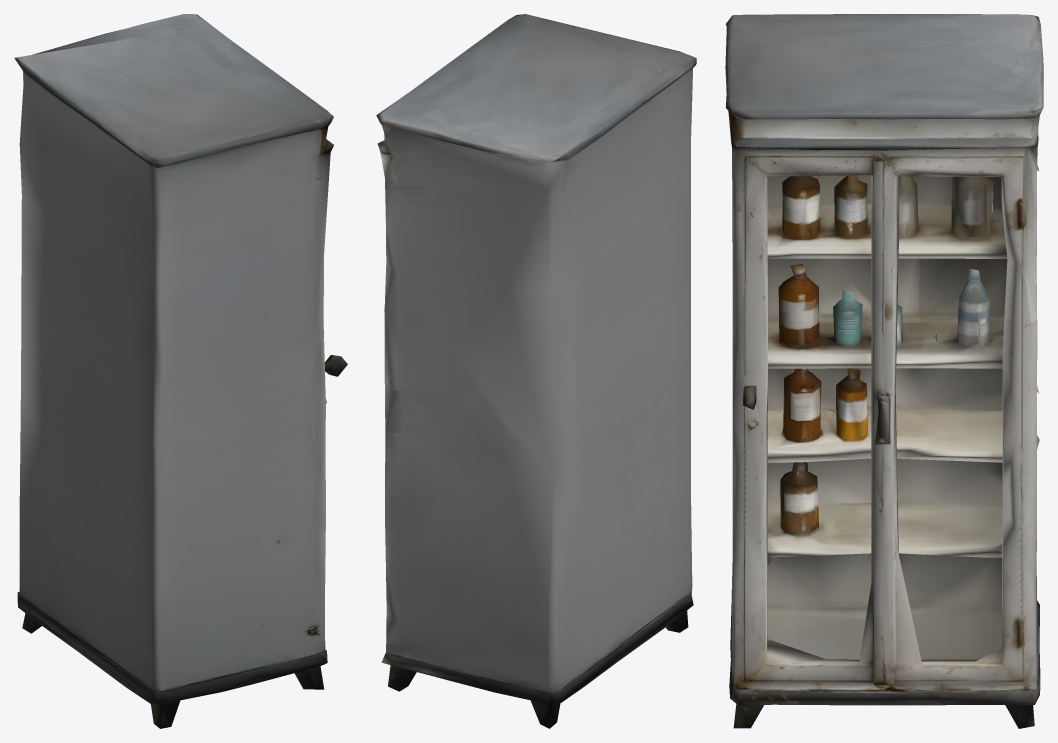
File: sn_medcab.glb
3 renders of one model, left to right at view 1: azimuth 30°, elevation 25°; view 2: azimuth 150°, elevation 25°; view 3: azimuth 270°, elevation 25°, orthographic. The views are drawn at different scales.
Visible parts, largest first — view 1: tripo_node_67b7d100-3813-4f3b-8b04-5ad4d7548aba; view 2: tripo_node_67b7d100-3813-4f3b-8b04-5ad4d7548aba; view 3: tripo_node_67b7d100-3813-4f3b-8b04-5ad4d7548aba.
Part boxes in pixels (<box>): tripo_node_67b7d100-3813-4f3b-8b04-5ad4d7548aba: <box>14,14,347,728</box>; tripo_node_67b7d100-3813-4f3b-8b04-5ad4d7548aba: <box>376,14,696,728</box>; tripo_node_67b7d100-3813-4f3b-8b04-5ad4d7548aba: <box>725,14,1043,728</box>.
Bounding box in the file's own units: 0.3721 × 1 × 0.4611.
1 material, 1 textured.
